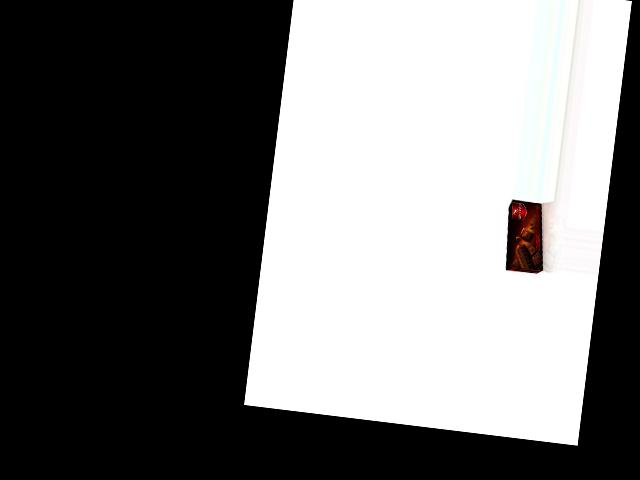chocolate: (500, 199, 551, 273)
